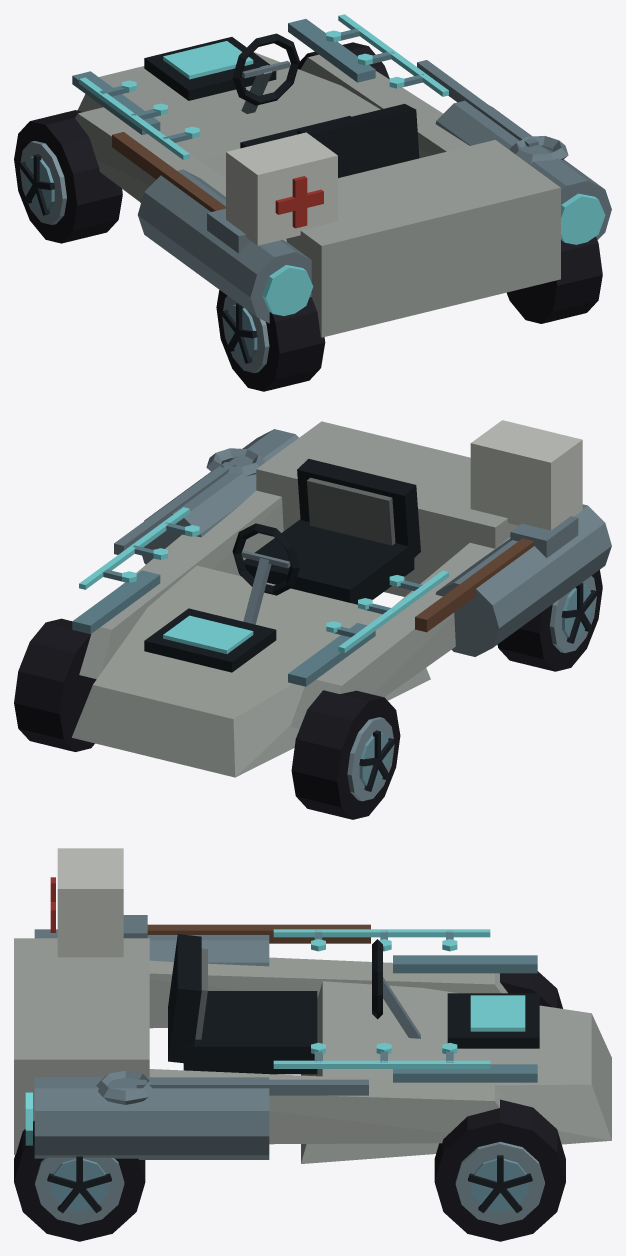
File: kart.glb
3 views of the same model, one above another, from view 1: azimuth 30°, elevation 25°; view 2: azimuth 150°, elevation 25°; view 3: azimuth 270°, elevation 25° (orthographic). The views are drawn at different scales.
Visible parts, largest first — view 1: identity-lab-pod-lab-pod-segmented-shell, identity-lab-pod-motif-medical, wheel-front-left, identity-lab-pod-driver-cockpit, wheel-rear-left, identity-lab-pod-motif-tools, wheel-rear-right, identity-lab-pod-motif-circuit, wheel-front-right; view 2: identity-lab-pod-lab-pod-segmented-shell, identity-lab-pod-driver-cockpit, wheel-front-left, identity-lab-pod-motif-medical, wheel-front-right, identity-lab-pod-motif-tools, wheel-rear-left, identity-lab-pod-motif-circuit; view 3: identity-lab-pod-lab-pod-segmented-shell, identity-lab-pod-driver-cockpit, wheel-front-right, wheel-rear-right, identity-lab-pod-motif-medical, identity-lab-pod-motif-tools, identity-lab-pod-motif-circuit, wheel-front-left.
Part boxes in pixels (x1,y1,x2,y2): identity-lab-pod-lab-pod-segmented-shell: (72,19,611,337); identity-lab-pod-motif-medical: (226,132,337,245); wheel-front-left: (14,110,122,243); identity-lab-pod-driver-cockpit: (232,33,419,177); wheel-rear-left: (216,290,325,391); identity-lab-pod-motif-tools: (112,60,568,253); wheel-rear-right: (507,236,602,323); identity-lab-pod-motif-circuit: (79,14,448,159); wheel-front-right: (298,42,389,78); identity-lab-pod-lab-pod-segmented-shell: (72,421,611,777); identity-lab-pod-driver-cockpit: (232,458,420,624); wheel-front-left: (291,690,400,819); identity-lab-pod-motif-medical: (470,420,582,530); wheel-front-right: (14,618,96,751); identity-lab-pod-motif-tools: (114,448,578,632); wheel-rear-left: (497,570,602,671); identity-lab-pod-motif-circuit: (79,507,448,652); identity-lab-pod-lab-pod-segmented-shell: (14,929,611,1163); identity-lab-pod-driver-cockpit: (168,934,420,1074); wheel-front-right: (434,1099,565,1241); wheel-rear-right: (14,1121,145,1241); identity-lab-pod-motif-medical: (50,848,123,957); identity-lab-pod-motif-tools: (96,915,370,1104); identity-lab-pod-motif-circuit: (273,929,490,1068); wheel-front-left: (500,971,562,1008).
Size of the model in its own units: 1.98 by 1.15 by 2.73.
